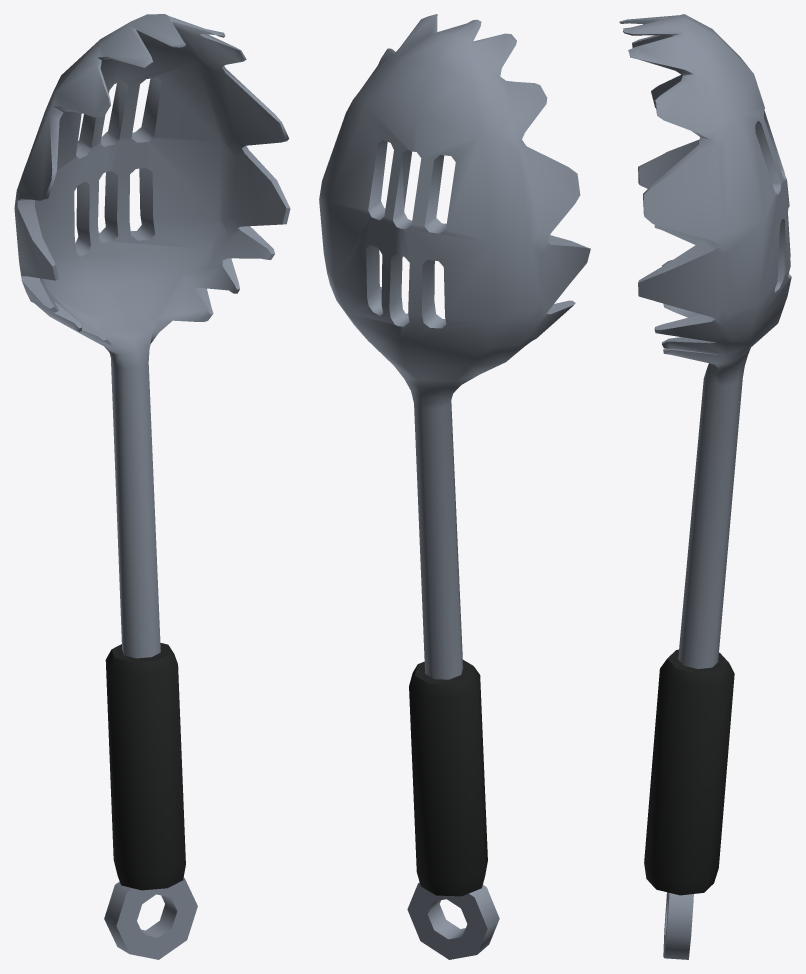
The model's file is Pasta Spoon.glb.
3 renders of one model, left to right at view 1: azimuth 30°, elevation 25°; view 2: azimuth 150°, elevation 25°; view 3: azimuth 270°, elevation 25°, orthographic.
Visible parts, largest first — view 1: cutensils_pasta_spoon_Cylinder.035; view 2: cutensils_pasta_spoon_Cylinder.035; view 3: cutensils_pasta_spoon_Cylinder.035.
Boxes of the visible parts, x1,y1,x2,y2 form: cutensils_pasta_spoon_Cylinder.035: (14, 14, 290, 959); cutensils_pasta_spoon_Cylinder.035: (319, 14, 590, 959); cutensils_pasta_spoon_Cylinder.035: (619, 14, 791, 959).
Size of the model in its own units: 2.11 by 7.71 by 1.28.
1 material, 1 textured.
